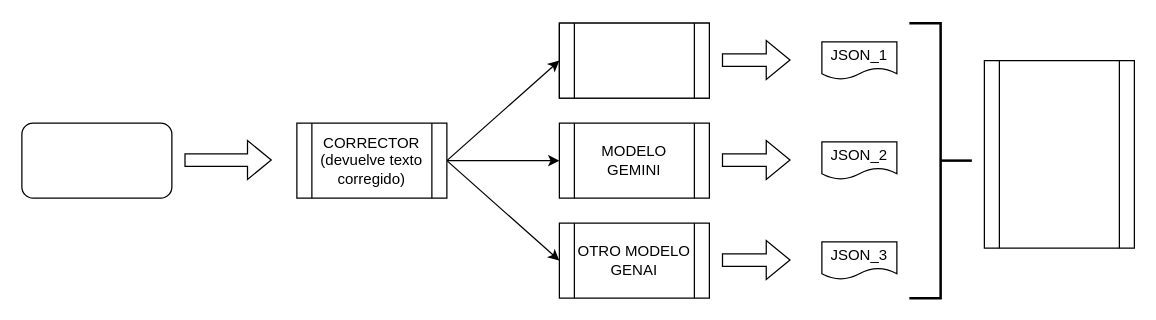
The diagram is 1156 pixels wide and 320 high, and some of its shapes have lost their labels. Here are the shapes that lost their labels. From the top down, the centre of each, then its label:
point 633,60: NUESTRO MODELO
point 96,160: TEXTO A EVALUAR
point 1058,153: PROGRAMA PYTHON QUE ANALIZA LOS JSON E IMPRIME RESULTADOS
